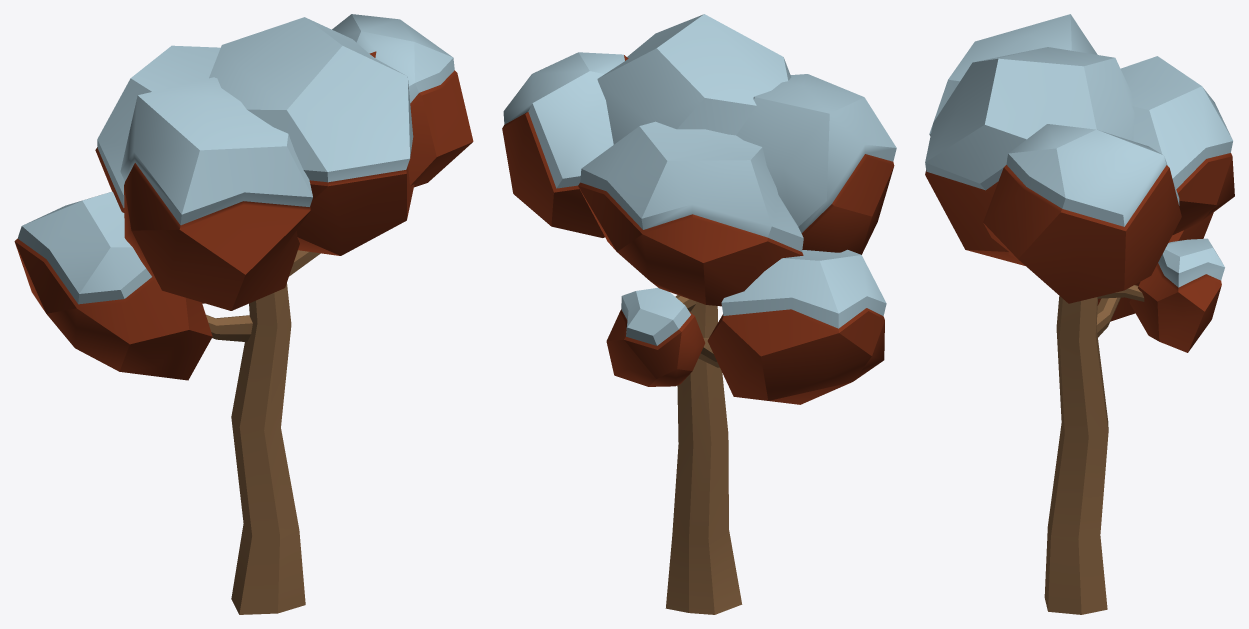
The model's file is Geo_TreeOrange.fbx.
3 views of the same model, side by side, from view 1: azimuth 30°, elevation 25°; view 2: azimuth 150°, elevation 25°; view 3: azimuth 270°, elevation 25° (orthographic). The views are drawn at different scales.
Visible parts, largest first — view 1: AutumnTreeGreen_Mesh1; view 2: AutumnTreeGreen_Mesh1; view 3: AutumnTreeGreen_Mesh1.
Part boxes in pixels (x1=…): AutumnTreeGreen_Mesh1: x1=14, y1=14, x2=473, y2=614; AutumnTreeGreen_Mesh1: x1=502, y1=14, x2=896, y2=614; AutumnTreeGreen_Mesh1: x1=925, y1=14, x2=1234, y2=614.
Bounding box in the file's own units: 400 × 575 × 289.
